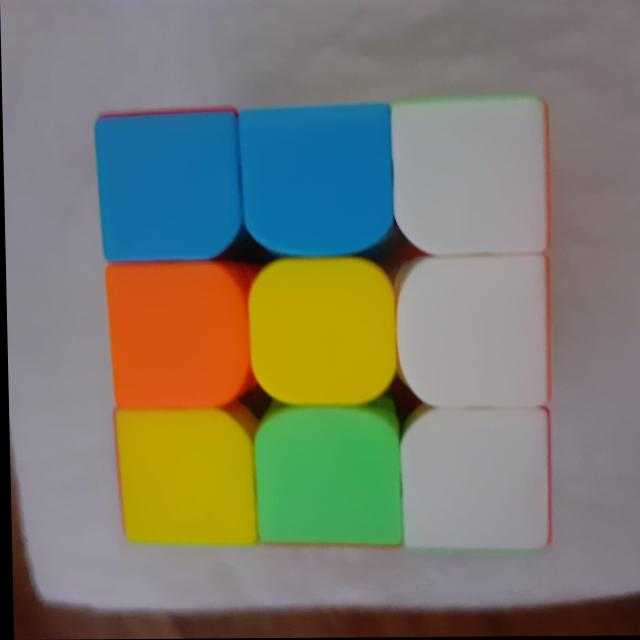Blue: (238, 110, 390, 250), (95, 119, 235, 253)
Green: (253, 413, 398, 545)
Orange: (105, 266, 245, 406)
White: (395, 259, 547, 410), (393, 107, 547, 256), (405, 411, 548, 548)
Yellow: (252, 266, 396, 405), (111, 414, 254, 552)
